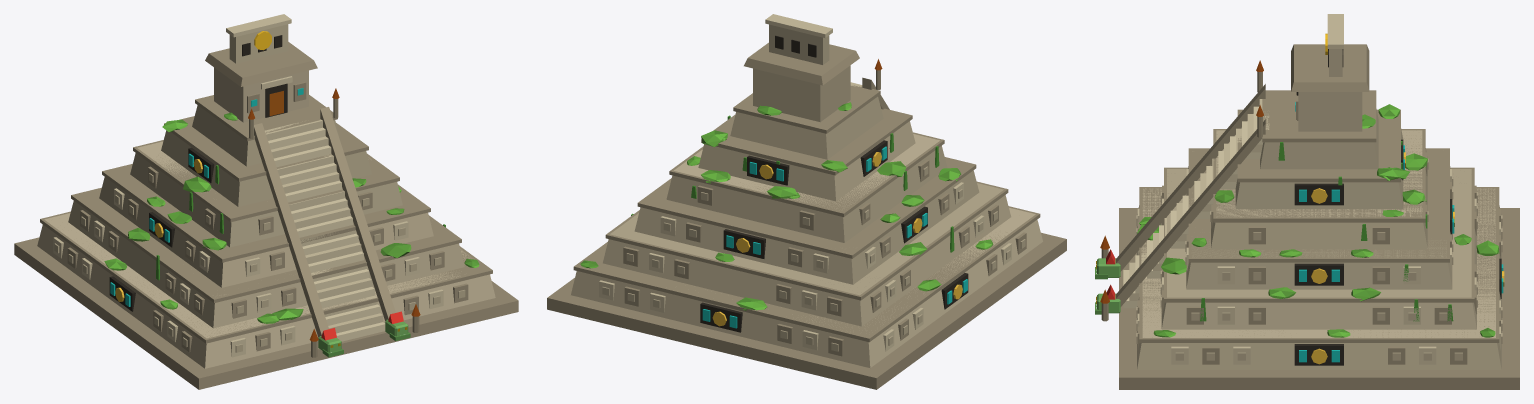
File: temple-lowpoly.glb
The picture shows the model from 3 angles, left to right: view 1: azimuth 30°, elevation 25°; view 2: azimuth 150°, elevation 25°; view 3: azimuth 270°, elevation 25°; orthographic projection. The views are drawn at different scales.
Visible parts, largest first — view 1: temple; view 2: temple; view 3: temple.
Part boxes in pixels (x1,y1,x2,y2): temple: [14, 14, 518, 389]; temple: [547, 14, 1066, 389]; temple: [1095, 14, 1519, 389].
Bounding box in the file's own units: 44 × 33.4 × 46.6.
2 materials, 2 textured.
